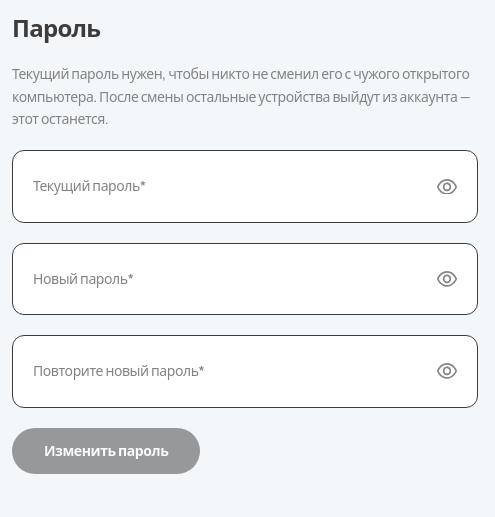
it: смена пароля › не отправляет запрос, когда повтор не совпал
Type "старый" into the password field with placeholder "Текущий пароль*" at (227, 187), box [33,175,421,198]
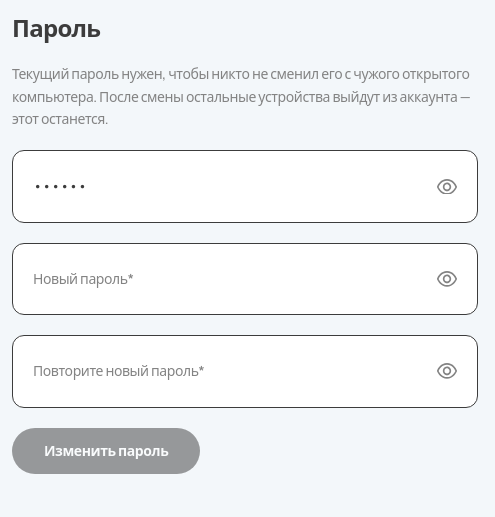
Type "новый-пароль" into the password field with placeholder "Новый пароль*" at (227, 279), box [33,268,421,290]
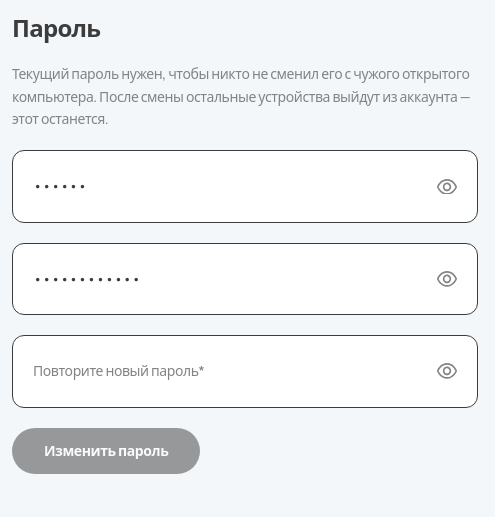
Type "другой-пароль" into the password field with placeholder "Повторите новый пароль*" at (227, 371), box [33,360,421,382]
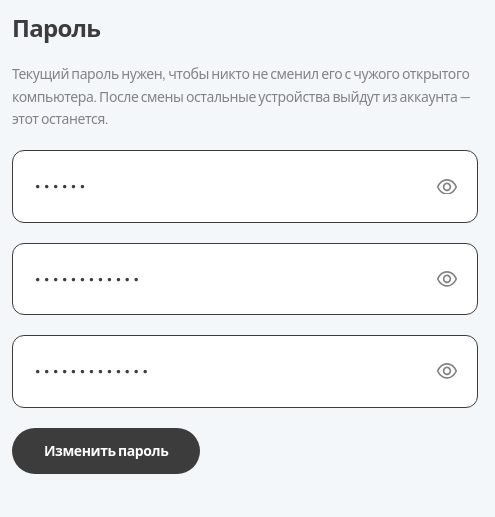
Submit the form
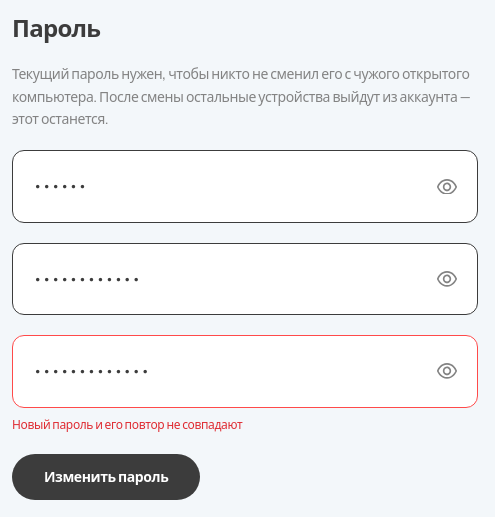
Expected: the form shows "не совпадают", [12,416,242,432]
